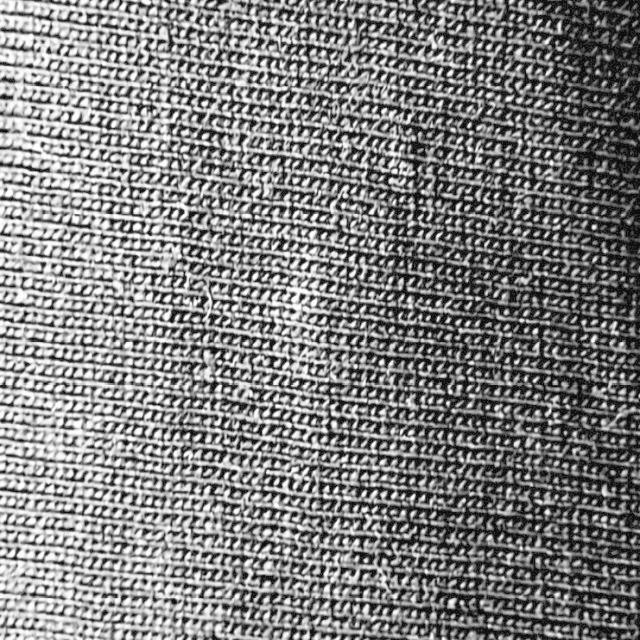Color_defect: (266, 244, 329, 364)
